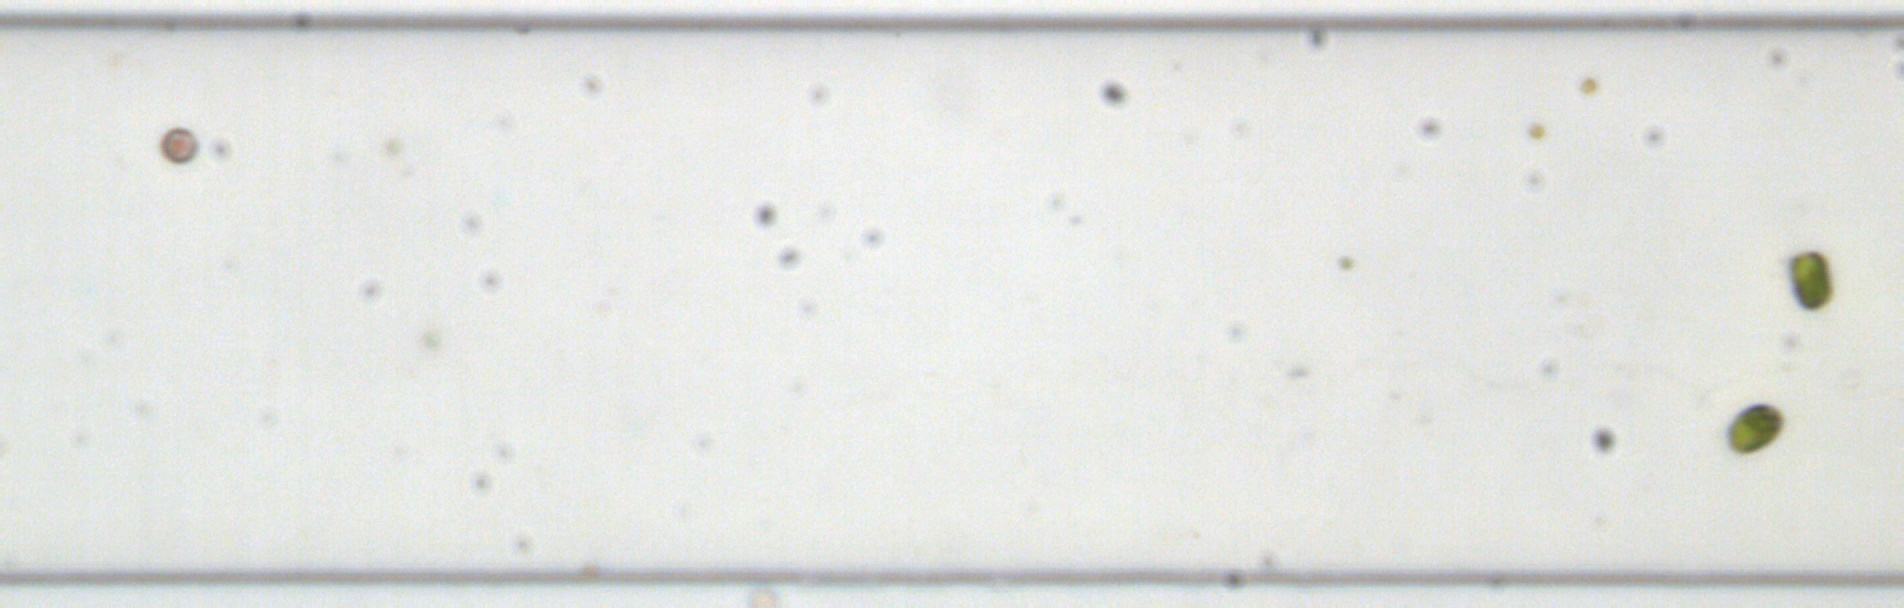Chlorella: (1576, 73, 1597, 96), (420, 329, 442, 348), (382, 135, 403, 154), (1525, 119, 1543, 140), (1334, 250, 1353, 271)
Platymonas: (1784, 245, 1834, 316), (1725, 398, 1785, 455)
Porphyridium: (158, 123, 198, 165)
